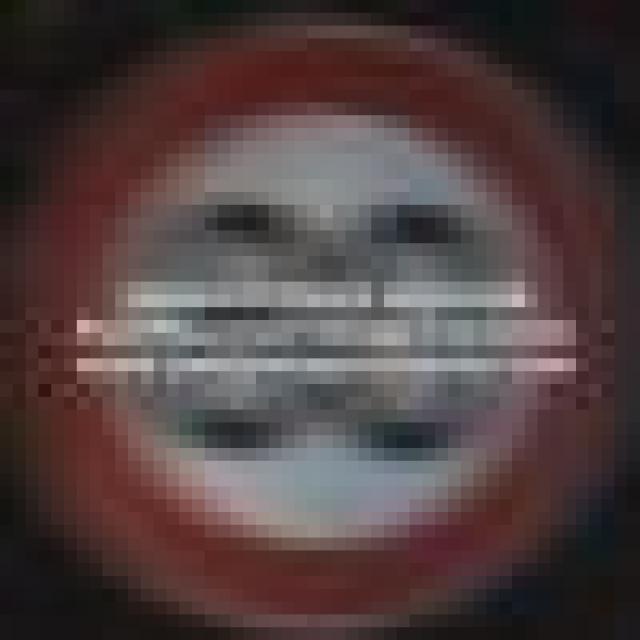SPEED_LIMIT_80: (26, 26, 588, 602)
